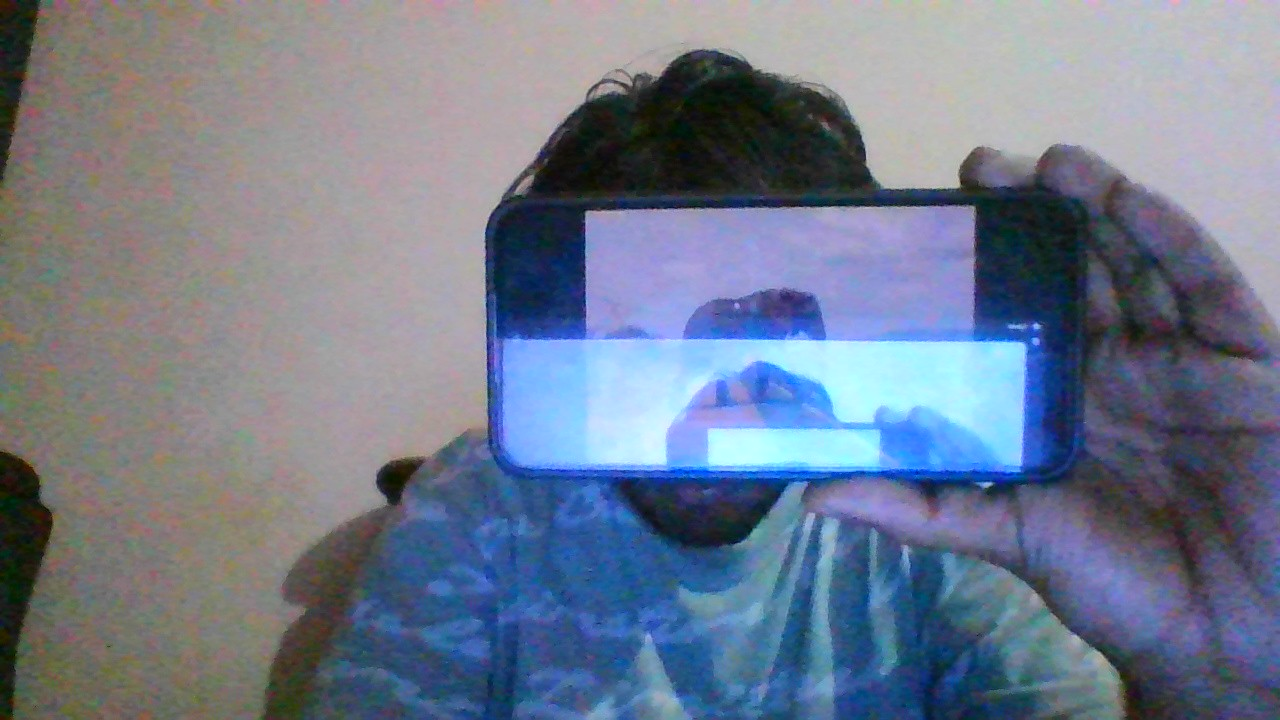elephant: (684, 288, 851, 425)
